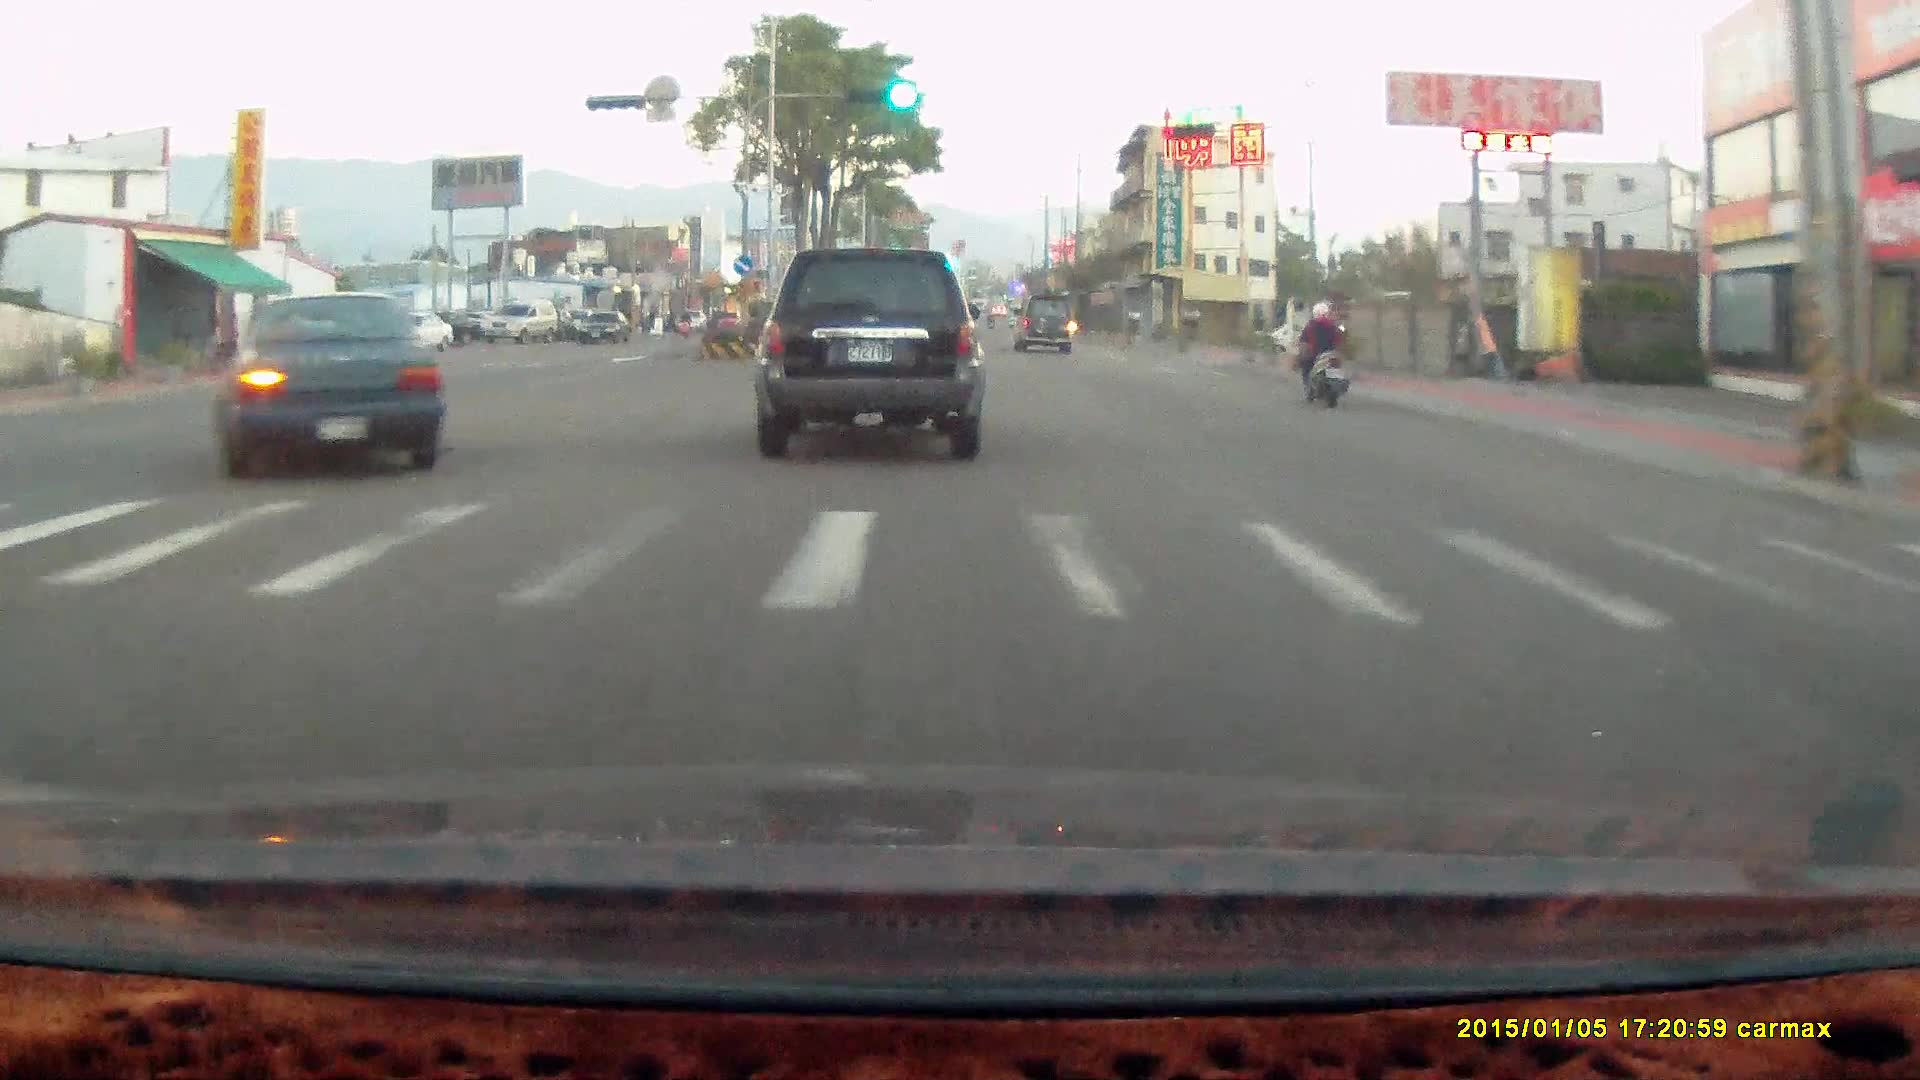rider: (1283, 292, 1361, 416), (1294, 296, 1350, 408)
vehicle: (761, 248, 990, 461), (752, 246, 981, 458), (200, 288, 443, 485), (213, 291, 445, 479), (1017, 293, 1078, 361), (1011, 293, 1075, 353), (478, 301, 558, 348), (369, 310, 455, 354), (480, 298, 557, 343), (577, 309, 631, 345)
